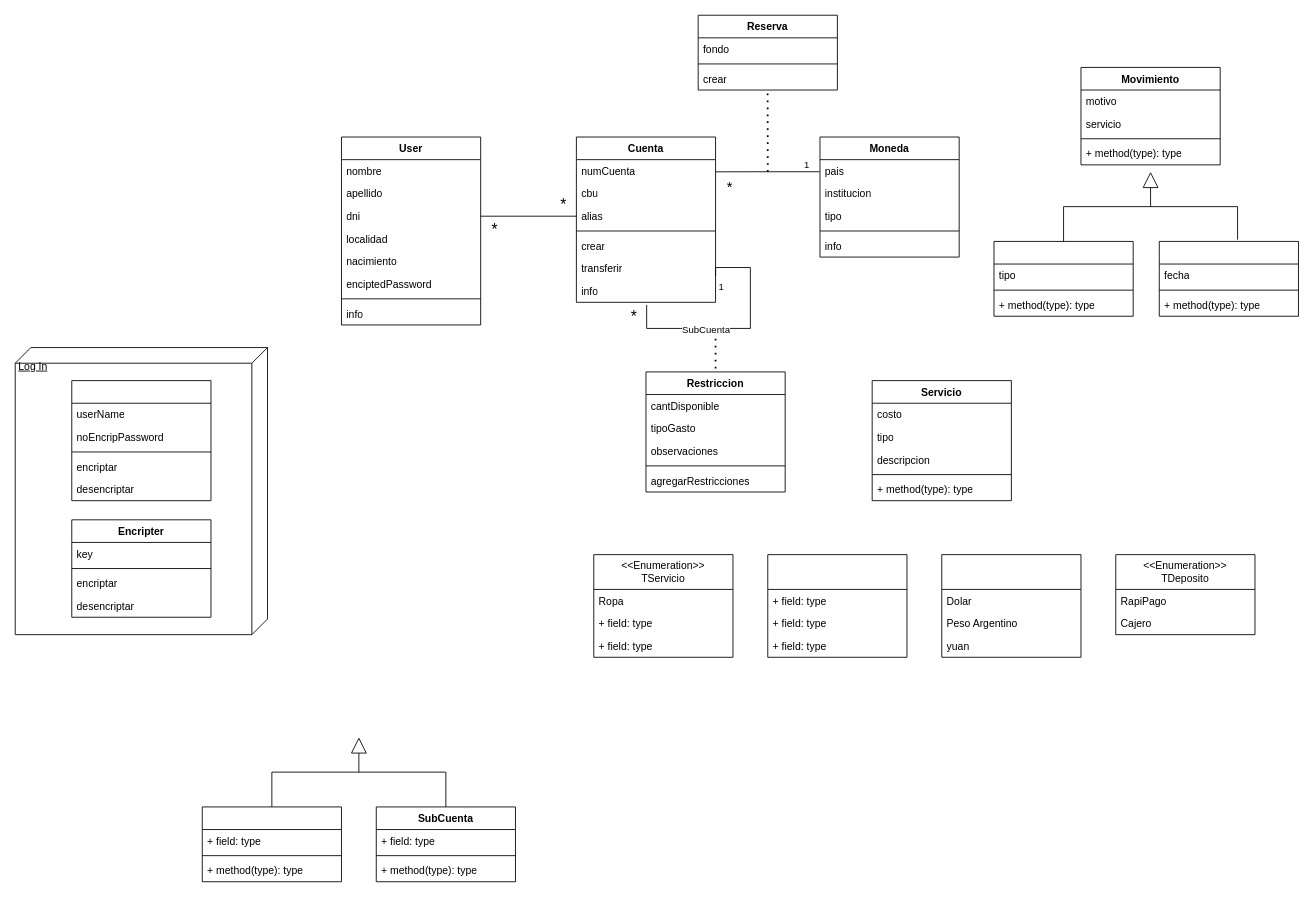
Image size: 1314x900. Some labels were removed from this diagram. The shapes that lost their labels are listed below. From the top down, each one's box as (x1, y1, x2, y2) in pixels, then its label:
(993, 241, 1133, 316): Deposito
(1158, 241, 1298, 316): Transferencia
(71, 380, 211, 501): LogIn
(767, 554, 907, 657): <<Enumeration>> TMotivo
(941, 554, 1081, 657): <<Enumeration>> TMonedas
(201, 806, 341, 882): PriCuenta
